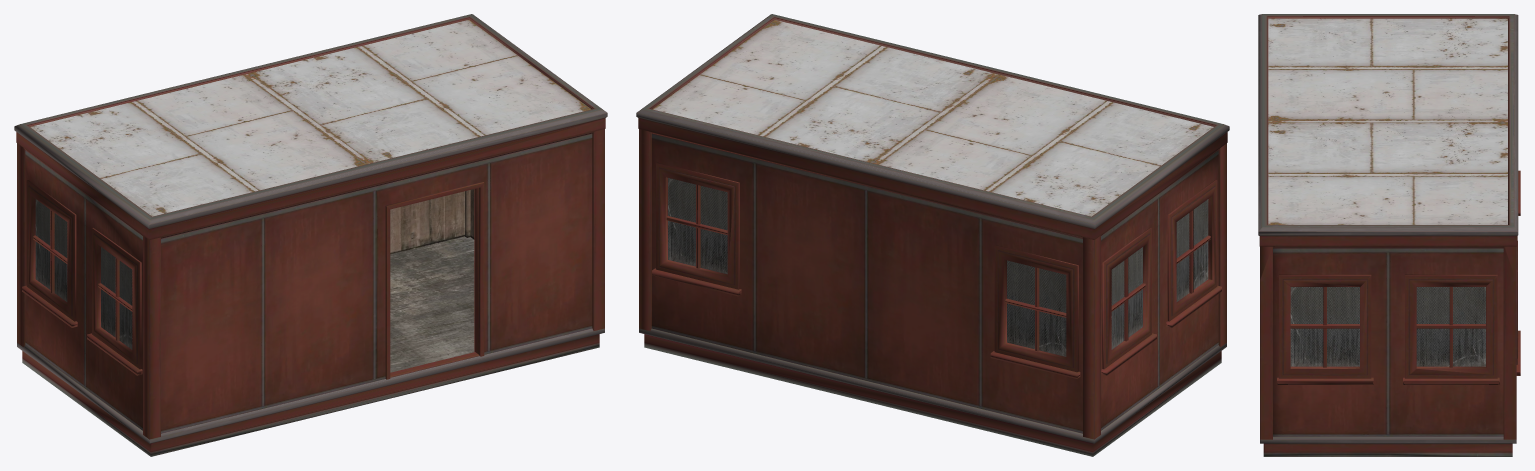
Rendered from portacabin_building_300_600_a.glb.
3 views of the same model, side by side, from view 1: azimuth 30°, elevation 25°; view 2: azimuth 150°, elevation 25°; view 3: azimuth 270°, elevation 25° (orthographic). The views are drawn at different scales.
Visible parts, largest first — view 1: portacabin_building_300_600_a_LOD0; view 2: portacabin_building_300_600_a_LOD0; view 3: portacabin_building_300_600_a_LOD0.
Boxes of the visible parts, <box> form: portacabin_building_300_600_a_LOD0: <box>14,14,607,456</box>; portacabin_building_300_600_a_LOD0: <box>636,14,1229,456</box>; portacabin_building_300_600_a_LOD0: <box>1258,14,1520,456</box>.
Bounding box in the file's own units: 6.15 × 3.02 × 3.12.
Materials: 6 (6 with a texture image).
